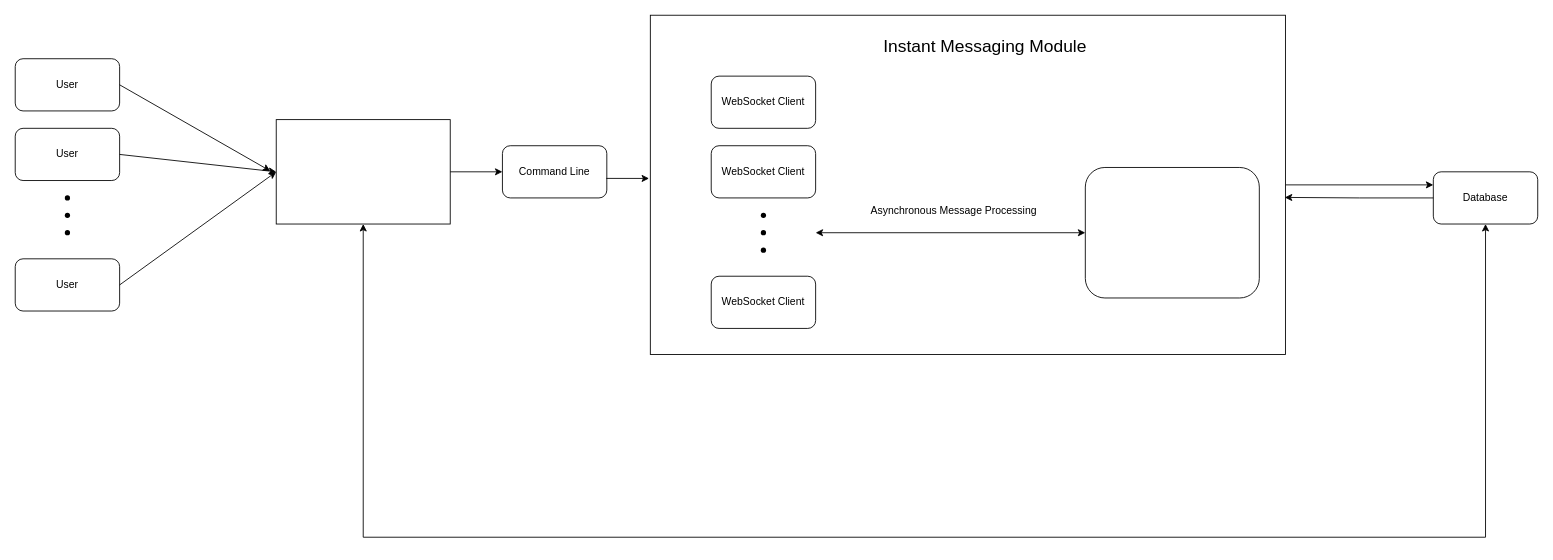
Image size: 1553x560. Some labels were removed from this diagram. Here are the shapes that lost their labels. From the top down, the centre of each, then its label:
At point 362,171: "User Authentication Module".
At point 1171,232: "WebSocket Server".
